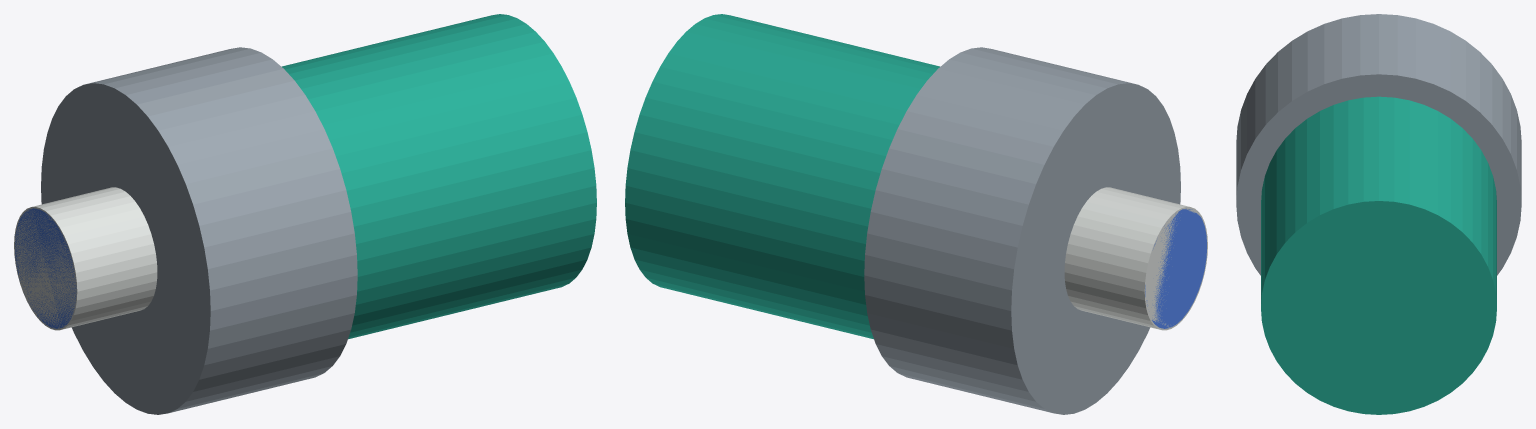
The model's file is fiber.glb.
3 views of the same model, side by side, from view 1: azimuth 30°, elevation 25°; view 2: azimuth 150°, elevation 25°; view 3: azimuth 270°, elevation 25° (orthographic). The views are drawn at different scales.
Parts seen in each view (by area): view 1: fiber; view 2: fiber; view 3: fiber.
Part boxes in pixels (<box>): fiber: <box>14,14,596,414</box>; fiber: <box>625,14,1207,414</box>; fiber: <box>1236,14,1521,414</box>.
Bounding box in the file's own units: 18 × 11 × 11.
